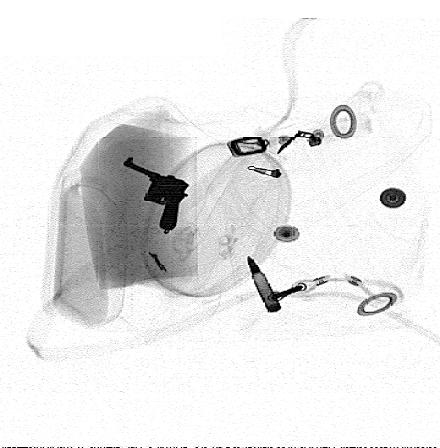Bullet: (248, 255, 281, 312)
Gun: (122, 161, 189, 230)
